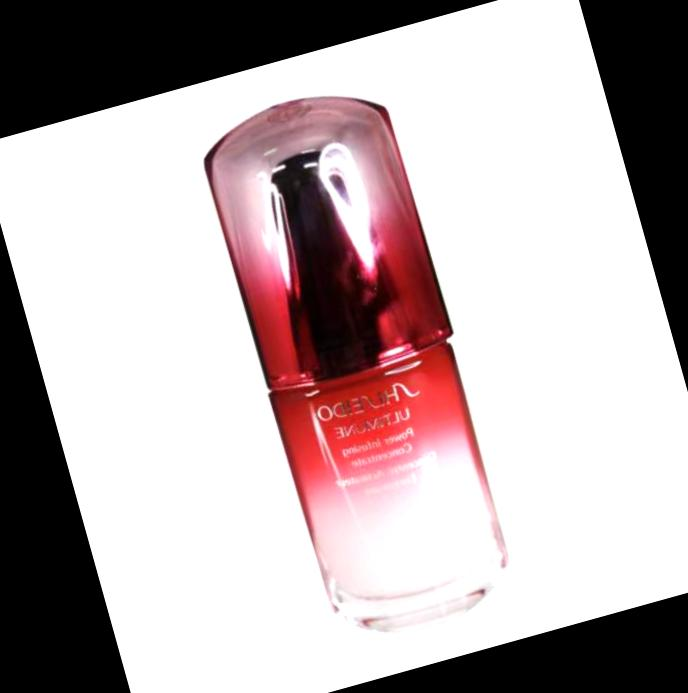cosmetic: (187, 70, 528, 648)
